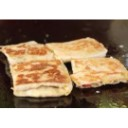parota: (7, 58, 72, 101), (69, 56, 128, 87), (48, 38, 108, 62), (2, 44, 55, 66)
